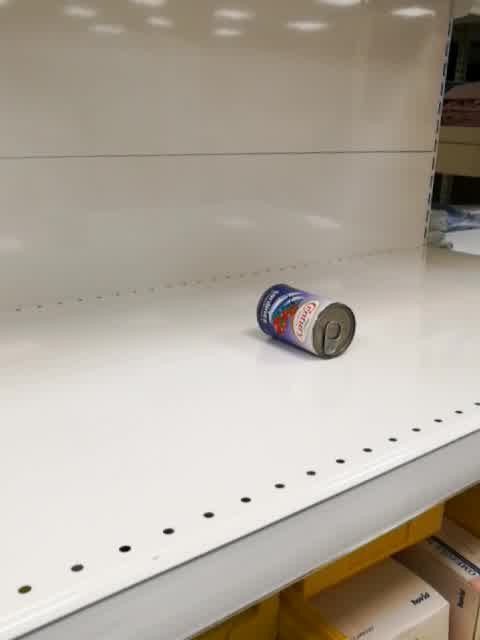sardine: (255, 281, 356, 360)
